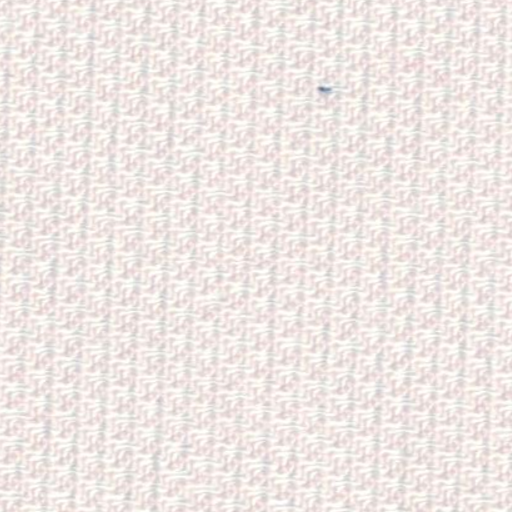WuZi: (308, 72, 342, 114)
